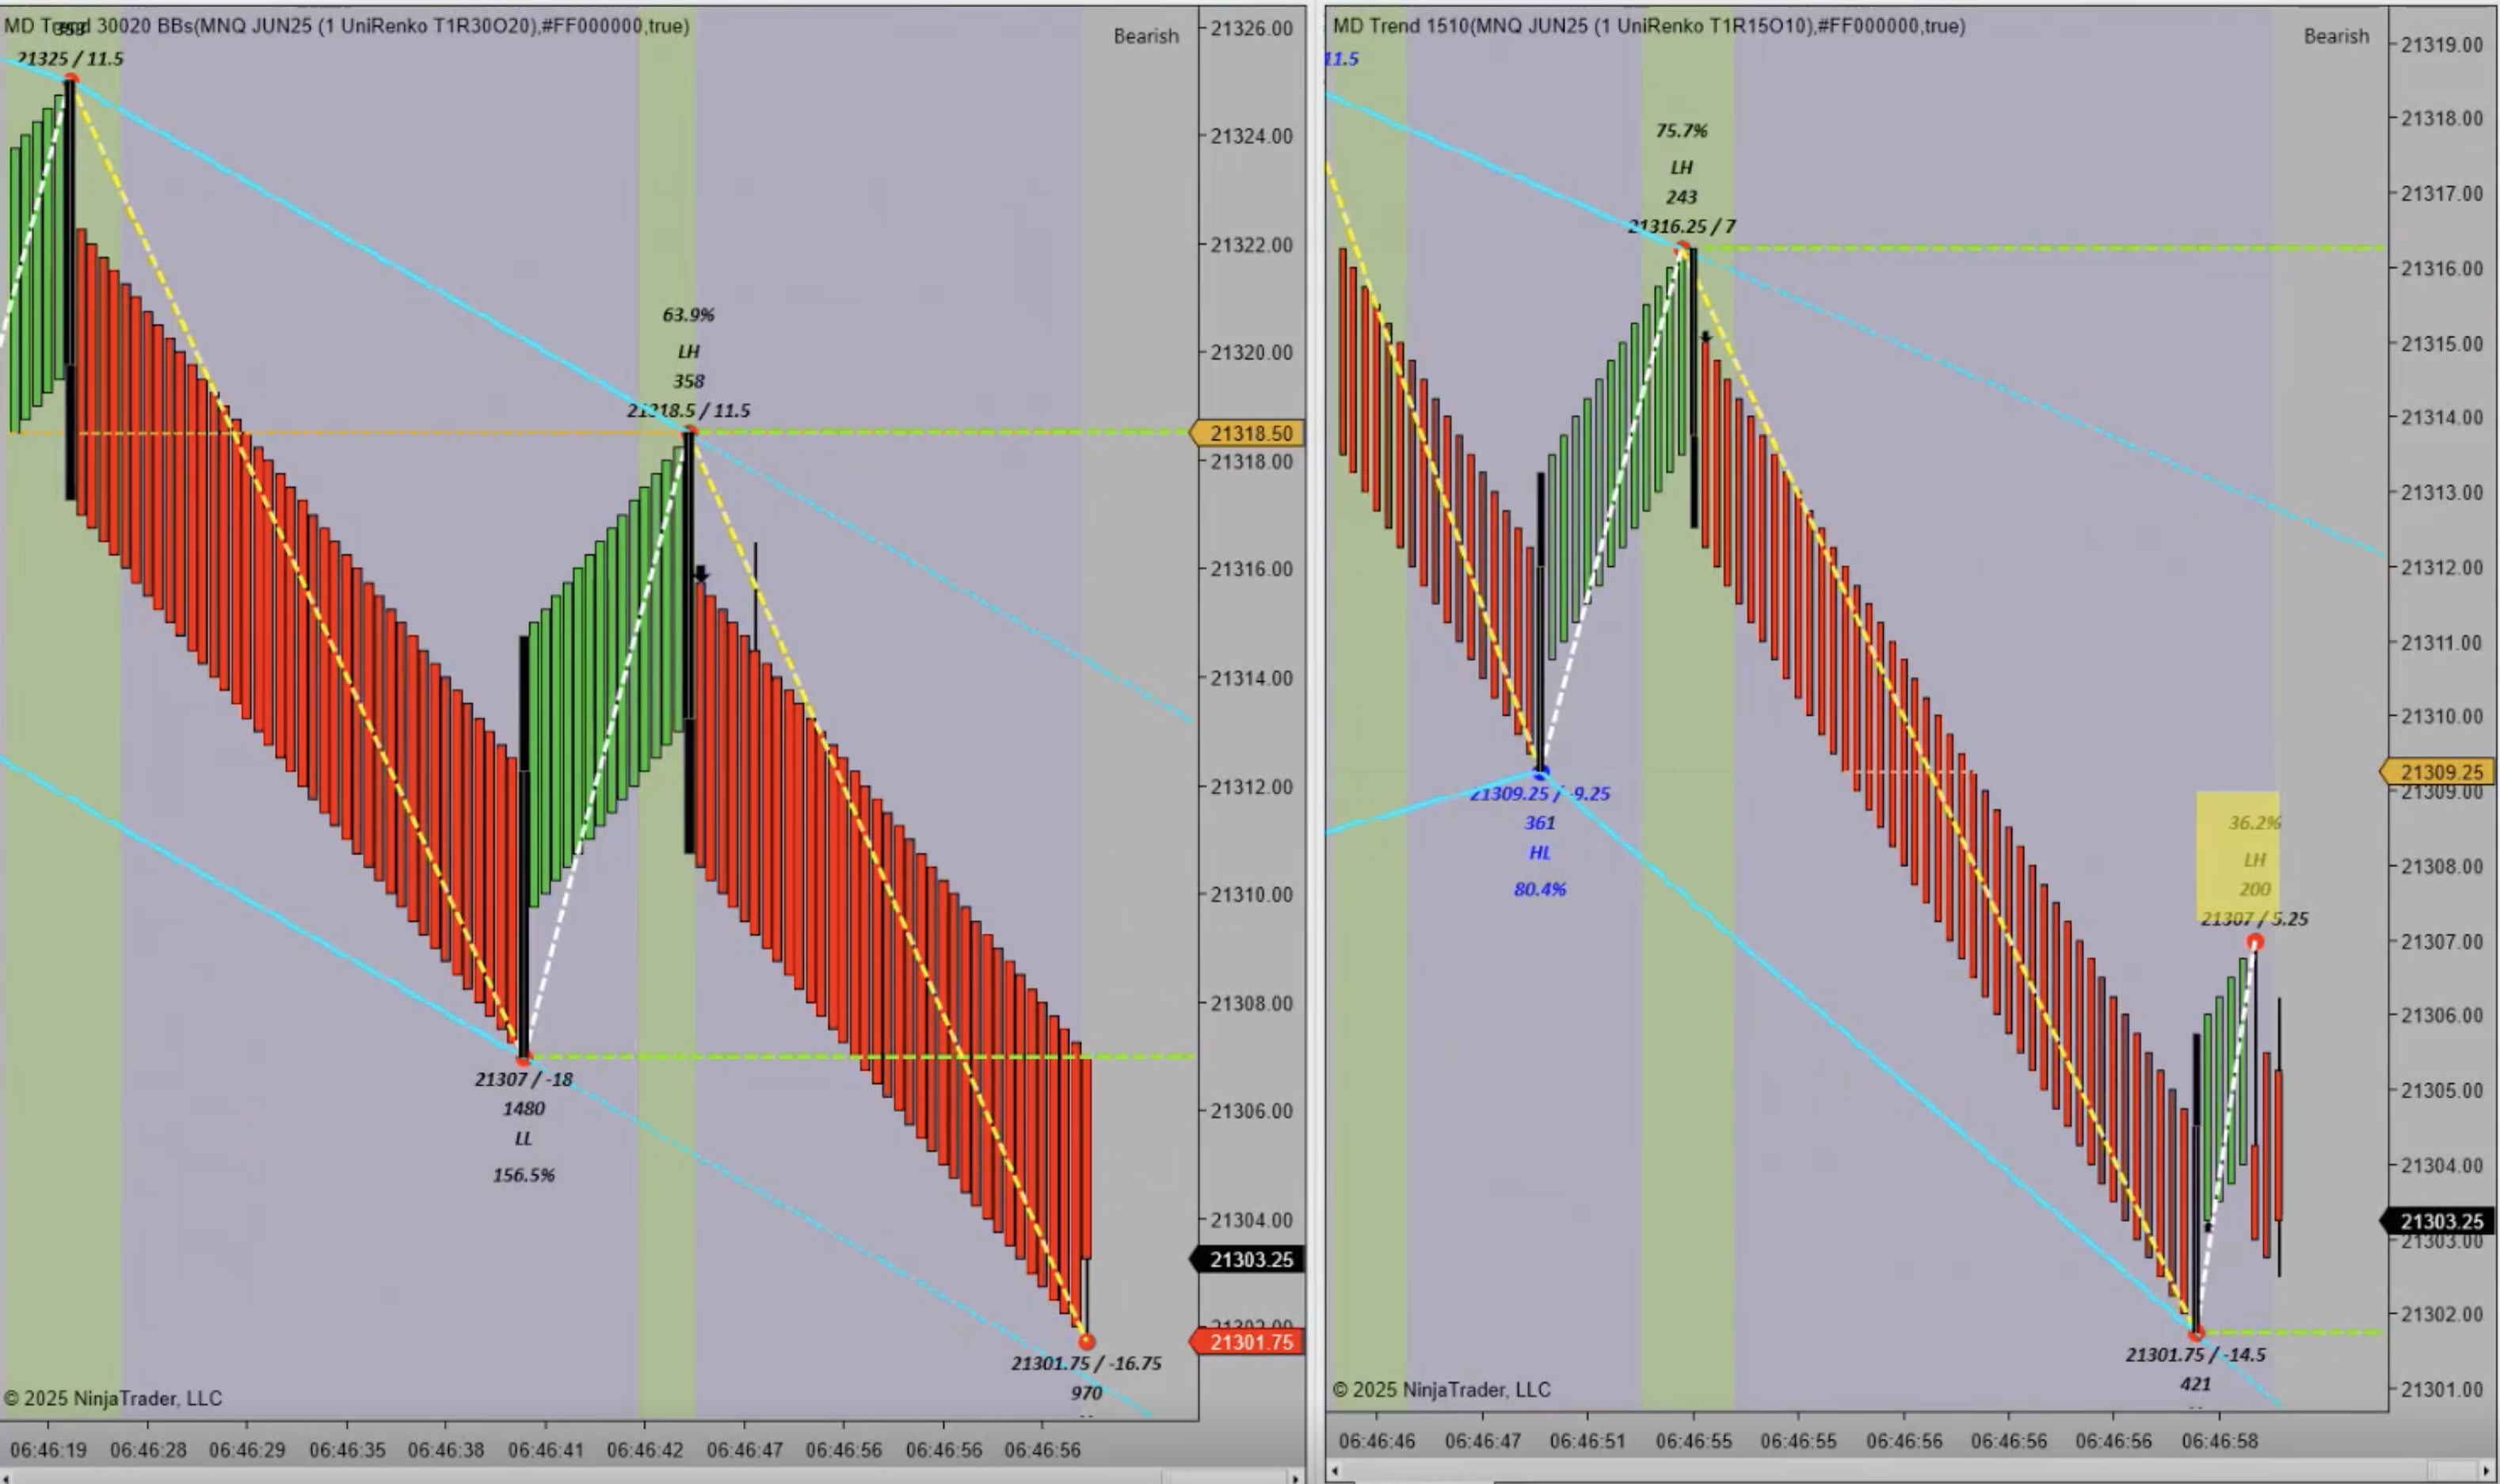candle: (678, 429, 707, 860), (62, 76, 83, 512), (1687, 246, 1708, 541), (518, 634, 532, 1058), (1532, 470, 1548, 779), (2191, 1032, 2203, 1323)
